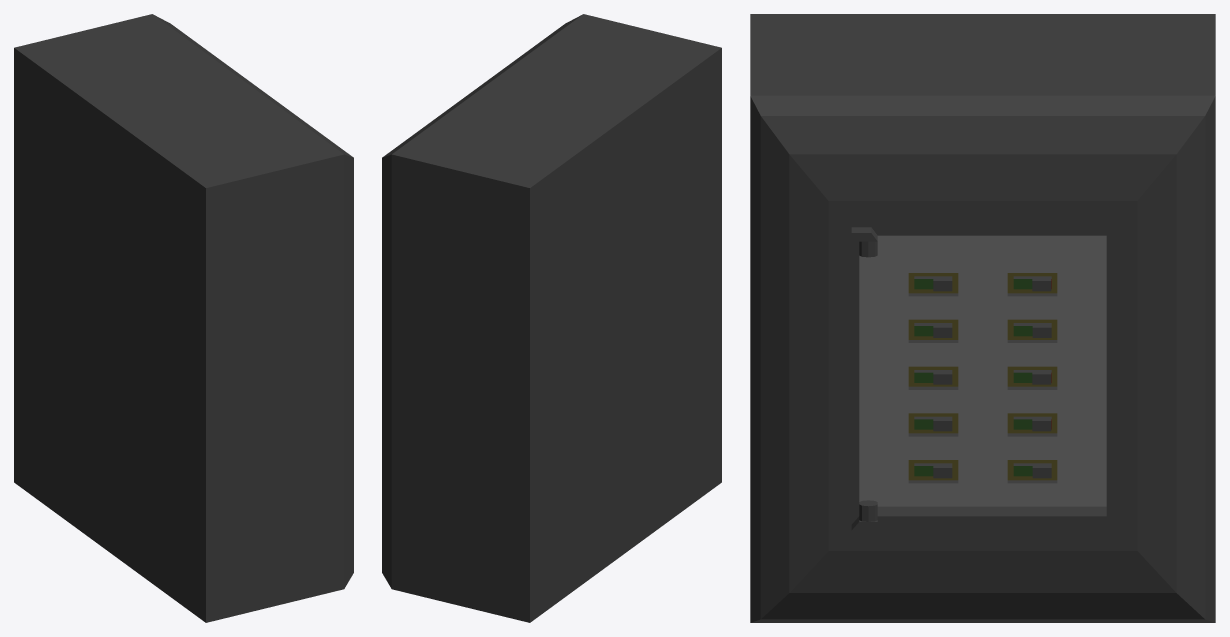
Rendered from breakerbox.fbx.
The picture shows the model from 3 angles, left to right: view 1: azimuth 30°, elevation 25°; view 2: azimuth 150°, elevation 25°; view 3: azimuth 270°, elevation 25°; orthographic projection. The views are drawn at different scales.
Parts seen in each view (by area): view 1: Breaker_box; view 2: Breaker_box; view 3: Breaker_box.
Part boxes in pixels (x1,y1,x2,y2): Breaker_box: [14, 14, 353, 622]; Breaker_box: [382, 14, 721, 622]; Breaker_box: [750, 14, 1215, 622].
Size of the model in its own units: 42.38 by 100 by 80.
